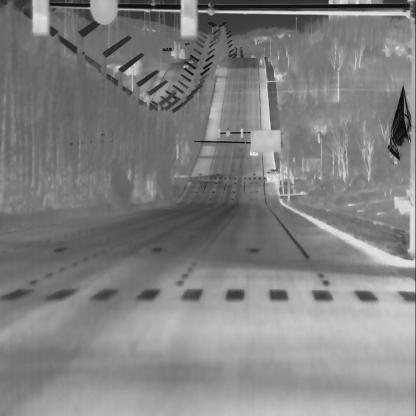car: (264, 168, 278, 184), (247, 145, 258, 157), (182, 59, 189, 69)
